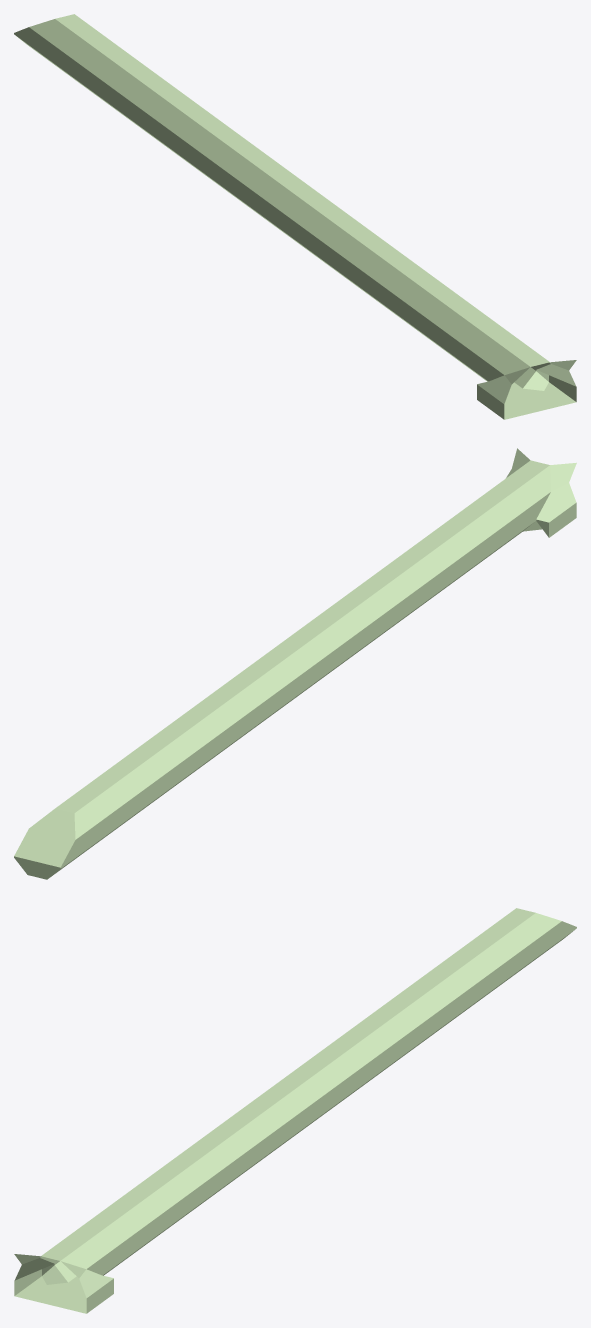
Rendered from tank_turret.fbx.
3 renders of one model, top to bottom at view 1: azimuth 30°, elevation 25°; view 2: azimuth 150°, elevation 25°; view 3: azimuth 330°, elevation 25°, orthographic.
Parts seen in each view (by area): view 1: Tank.009; view 2: Tank.009; view 3: Tank.009.
Boxes of the visible parts, bbox=[...] form: Tank.009: bbox=[14, 14, 576, 419]; Tank.009: bbox=[14, 448, 576, 879]; Tank.009: bbox=[14, 908, 576, 1313].
Bounding box in the file's own units: 10.09 × 6.52 × 123.
